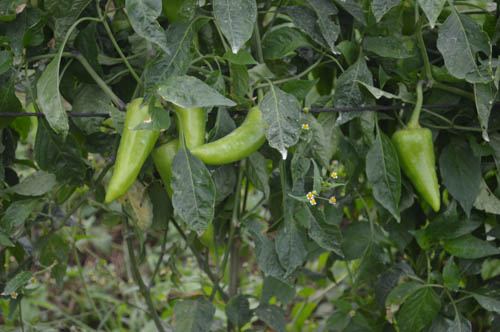ChiliPepper: (105, 99, 158, 202), (158, 144, 209, 241), (194, 107, 270, 166), (401, 126, 438, 209), (178, 96, 204, 167)
